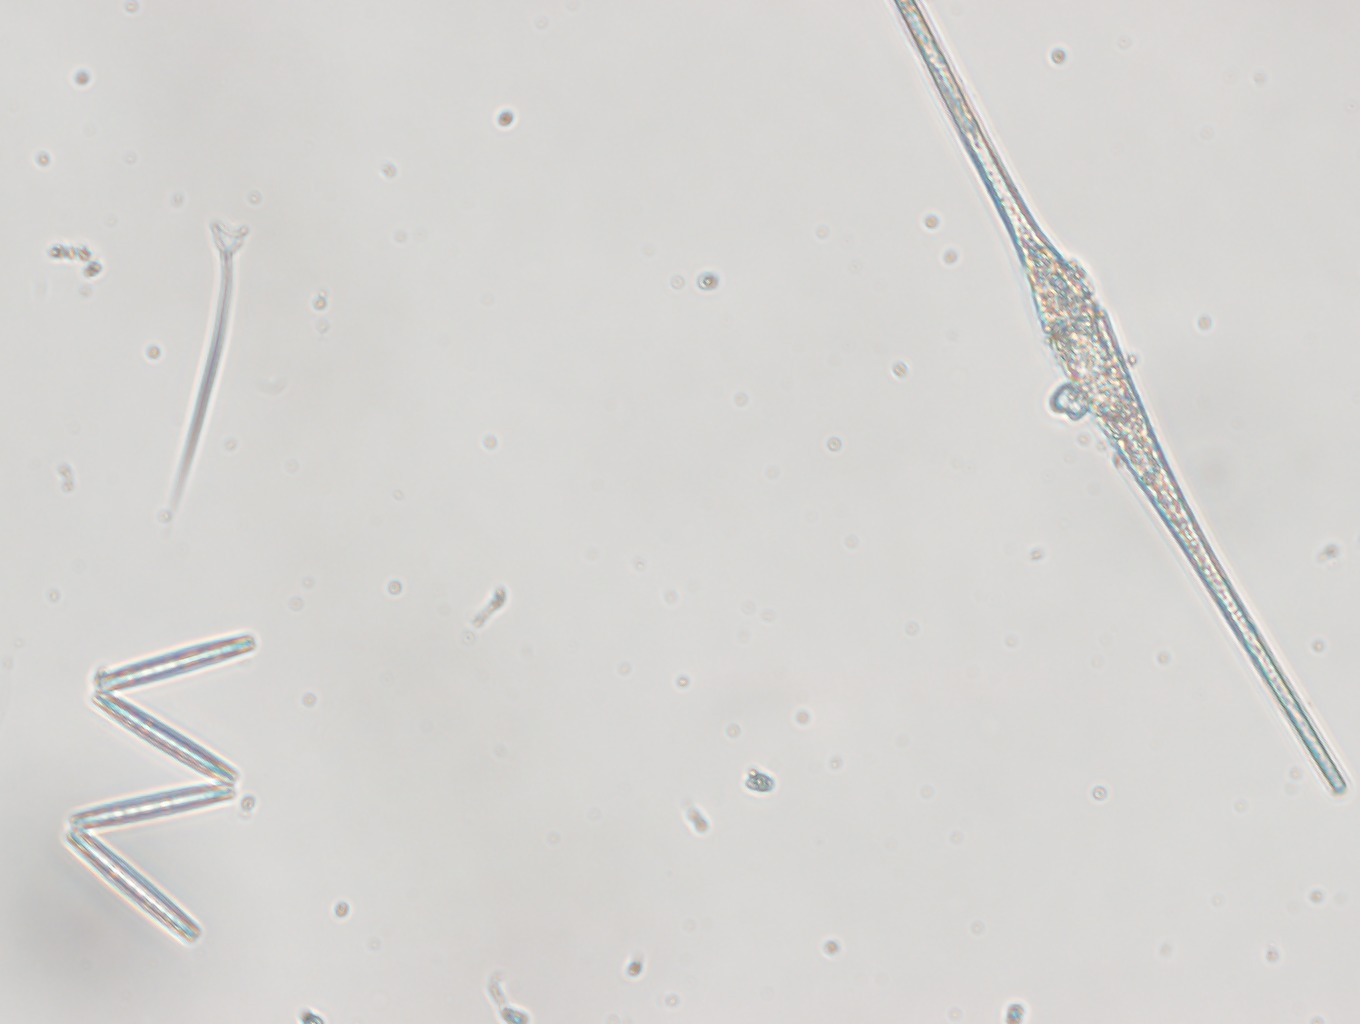ceratium fusus: (884, 1, 1352, 800)
thalassionema nitzschioides: (67, 629, 257, 942)
